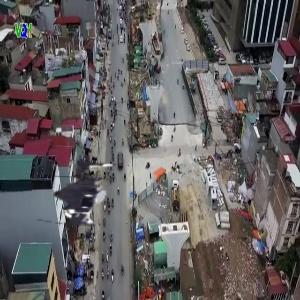drone: (30, 143, 137, 250)
